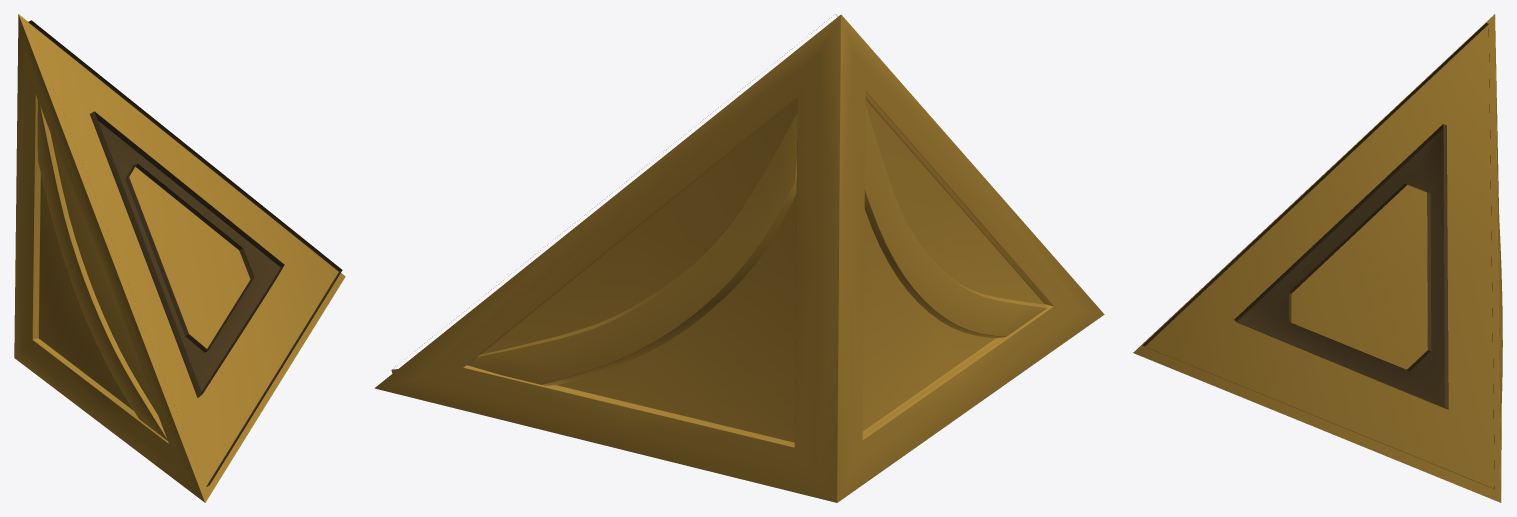
File: Holocron_Esquina_InfIzqTra.obj
The picture shows the model from 3 angles, left to right: view 1: azimuth 30°, elevation 25°; view 2: azimuth 150°, elevation 25°; view 3: azimuth 270°, elevation 25°; orthographic projection. The views are drawn at different scales.
Visible parts, largest first — view 1: Holocron_Esquina_InfIzqTra; view 2: Holocron_Esquina_InfIzqTra; view 3: Holocron_Esquina_InfIzqTra.
Part boxes in pixels (x1=…): Holocron_Esquina_InfIzqTra: x1=14, y1=14, x2=345, y2=502; Holocron_Esquina_InfIzqTra: x1=374, y1=14, x2=1104, y2=502; Holocron_Esquina_InfIzqTra: x1=1133, y1=14, x2=1502, y2=502.
Bounding box in the file's own units: 5.14 × 5.22 × 5.15.
